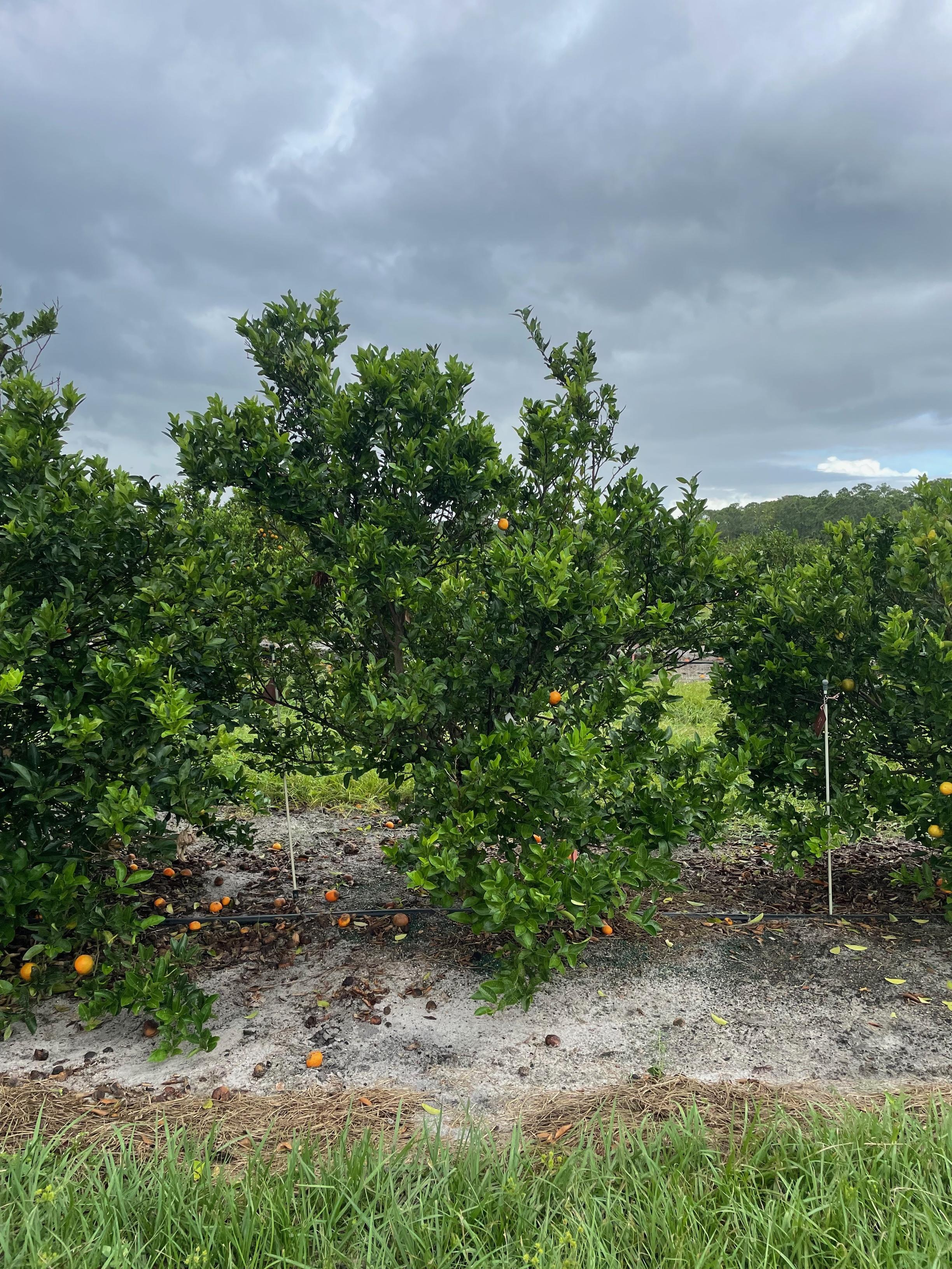fruit_on_ground: (72, 952, 96, 976), (19, 960, 42, 983), (926, 822, 945, 840), (840, 676, 857, 694), (546, 689, 563, 707), (938, 779, 952, 798), (496, 516, 512, 532), (272, 534, 279, 541), (258, 527, 265, 533), (270, 533, 276, 539), (262, 531, 267, 537)
fruit_on_tree: (142, 1017, 161, 1037), (304, 1049, 324, 1068), (212, 1083, 232, 1101), (390, 912, 410, 928), (336, 912, 353, 927), (324, 888, 340, 903), (343, 842, 357, 855), (162, 865, 176, 878), (153, 896, 167, 909), (208, 900, 222, 913), (601, 923, 614, 936), (273, 896, 287, 908), (530, 832, 543, 844), (221, 894, 233, 907), (180, 866, 193, 878), (341, 872, 355, 883), (188, 919, 202, 930), (268, 864, 280, 874), (384, 900, 396, 910), (384, 819, 395, 829), (128, 862, 139, 872), (213, 876, 224, 886), (271, 841, 282, 851)
